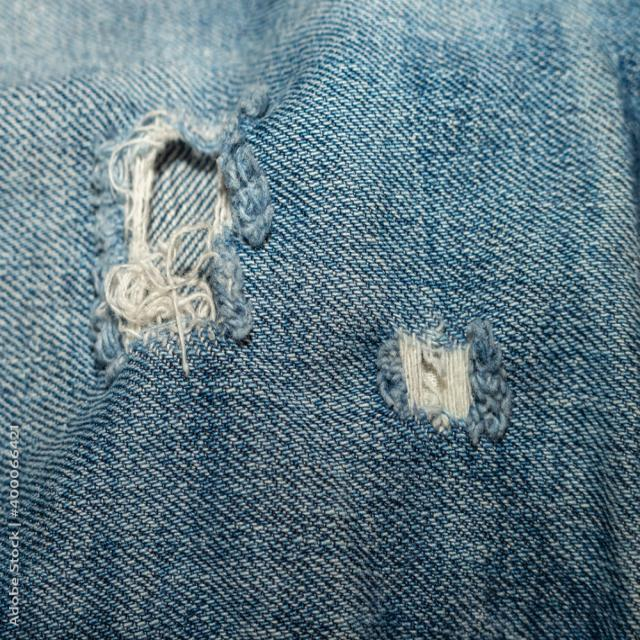Hole: (82, 95, 275, 367), (373, 318, 507, 445)
